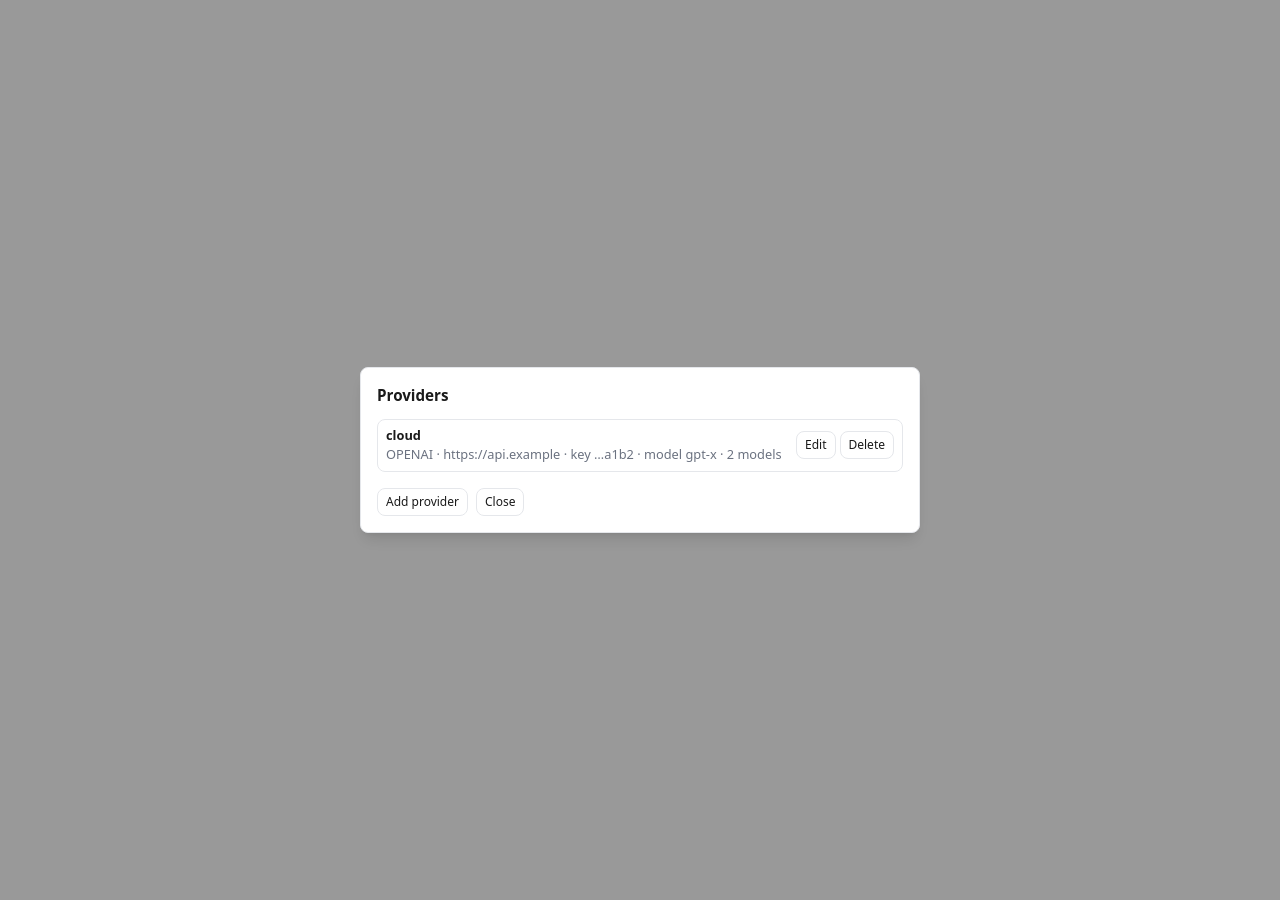
Test case: ProvidersPanel › editing a provider opens the same dialog filled in
Click the button "Edit". click: coordinates (816, 445)
box: x1=796 y1=431 x2=836 y2=459
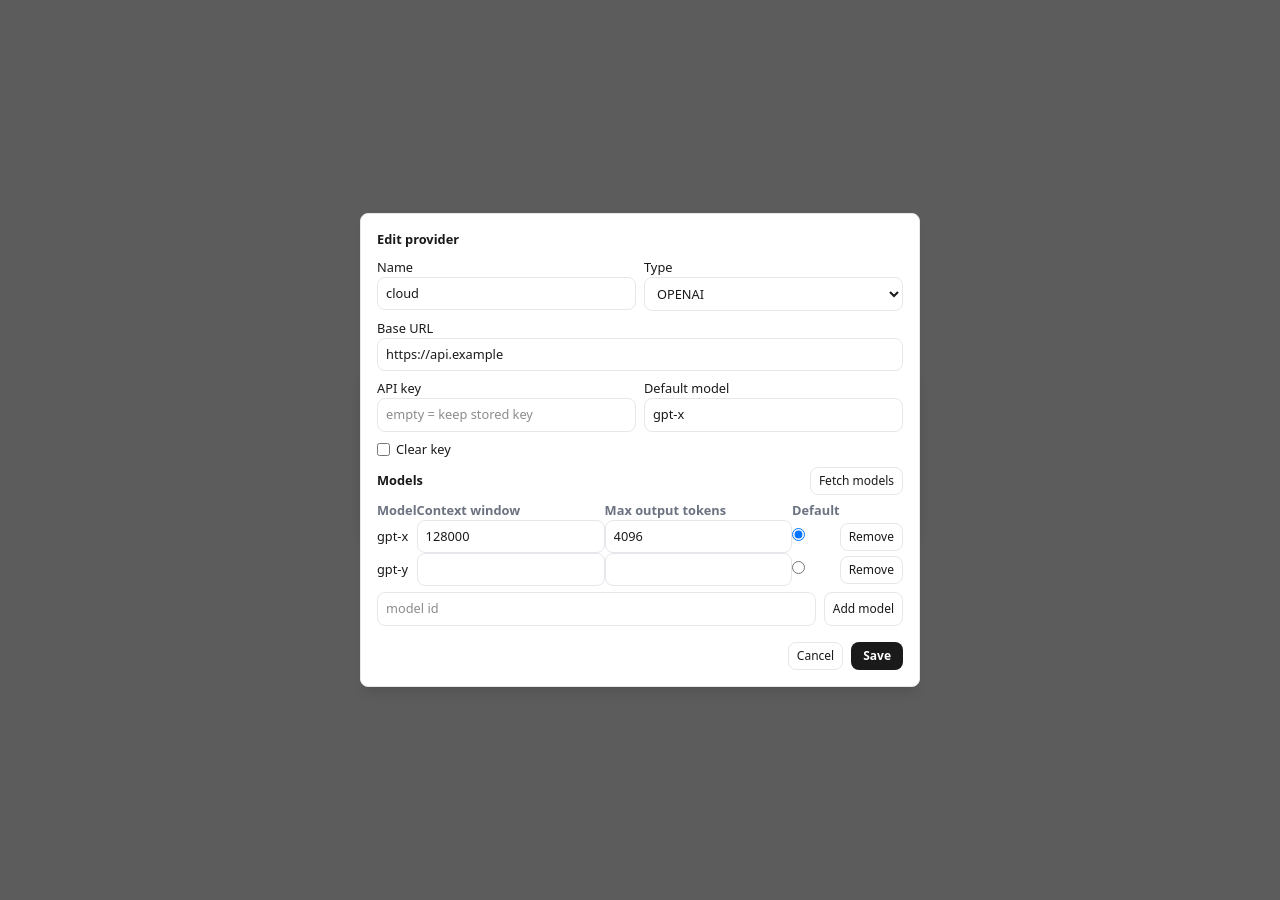
Now the field labelled "Name" holds "cloud", box x1=377 y1=277 x2=636 y2=310
Now the field labelled "Base URL" holds "https://api.example", box x1=377 y1=338 x2=903 y2=371
Now the number field named "Context window for gpt-x" holds "128000", box x1=417 y1=520 x2=605 y2=553
